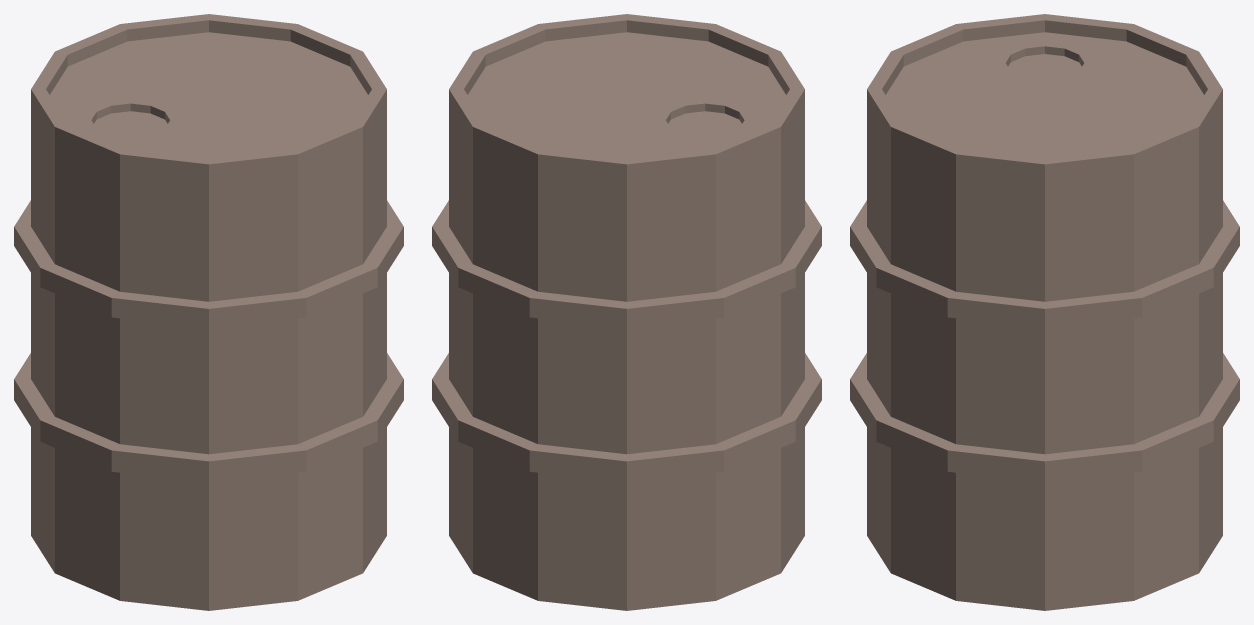
The model's file is Barrel.fbx.
The picture shows the model from 3 angles, left to right: view 1: azimuth 30°, elevation 25°; view 2: azimuth 150°, elevation 25°; view 3: azimuth 270°, elevation 25°; orthographic projection.
Parts seen in each view (by area): view 1: Barrel; view 2: Barrel; view 3: Barrel.
Boxes of the visible parts, x1=… form: Barrel: x1=14, y1=14, x2=403, y2=610; Barrel: x1=432, y1=14, x2=821, y2=610; Barrel: x1=850, y1=14, x2=1239, y2=610.
Bounding box in the file's own units: 107 × 107 × 136.
